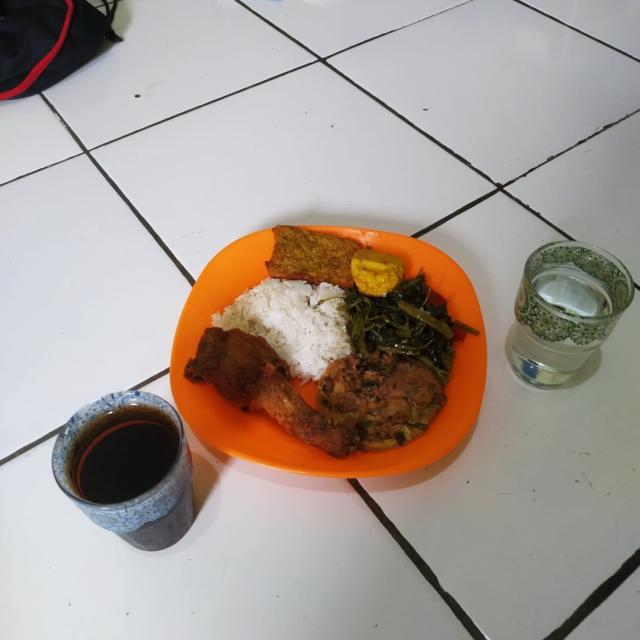nasi_putih: (198, 272, 390, 366)
telur_ayam_dadar: (314, 326, 457, 448)
